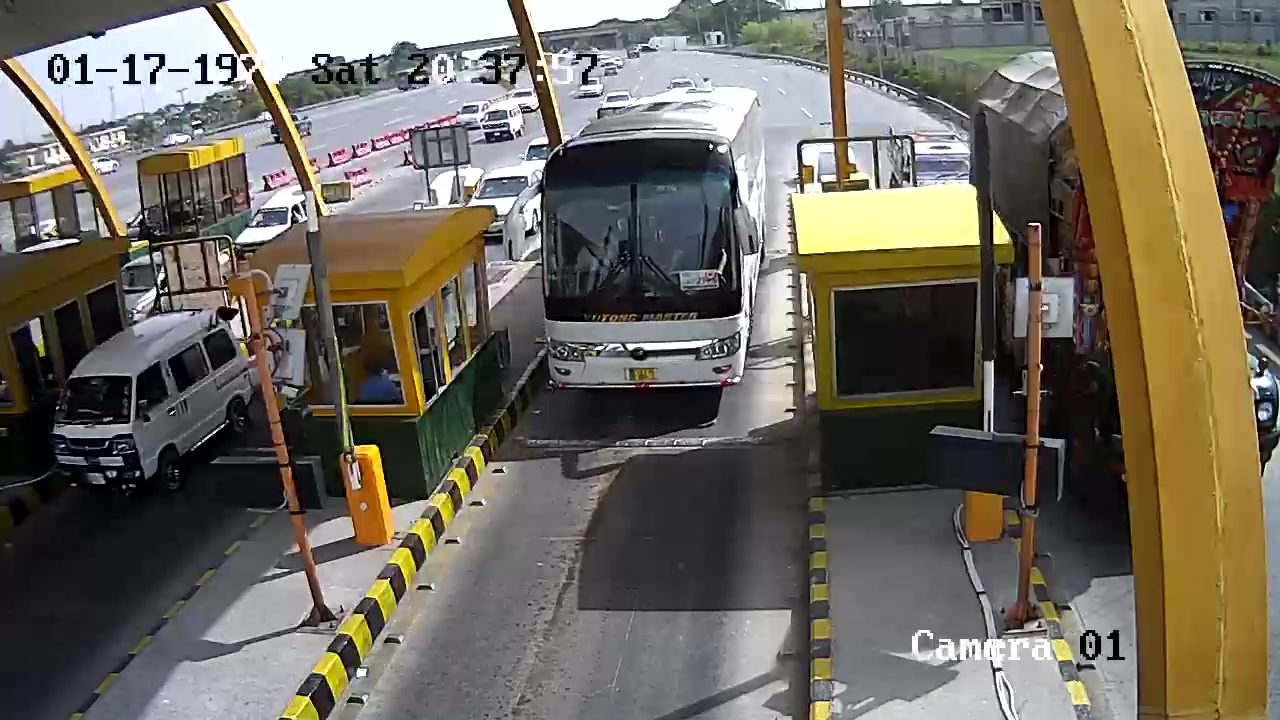F4: (537, 82, 780, 437)
